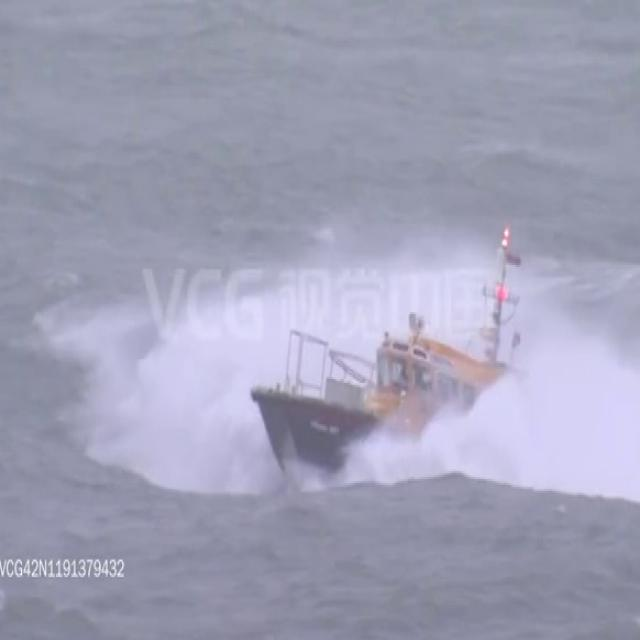houseboat: (250, 229, 534, 499)
